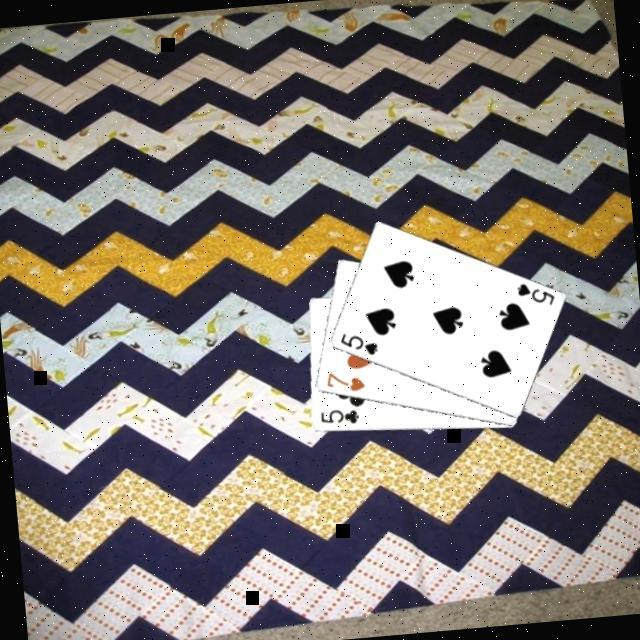5C: (314, 403, 360, 428)
5S: (334, 325, 378, 359), (511, 275, 555, 309)
7H: (320, 364, 366, 394)
